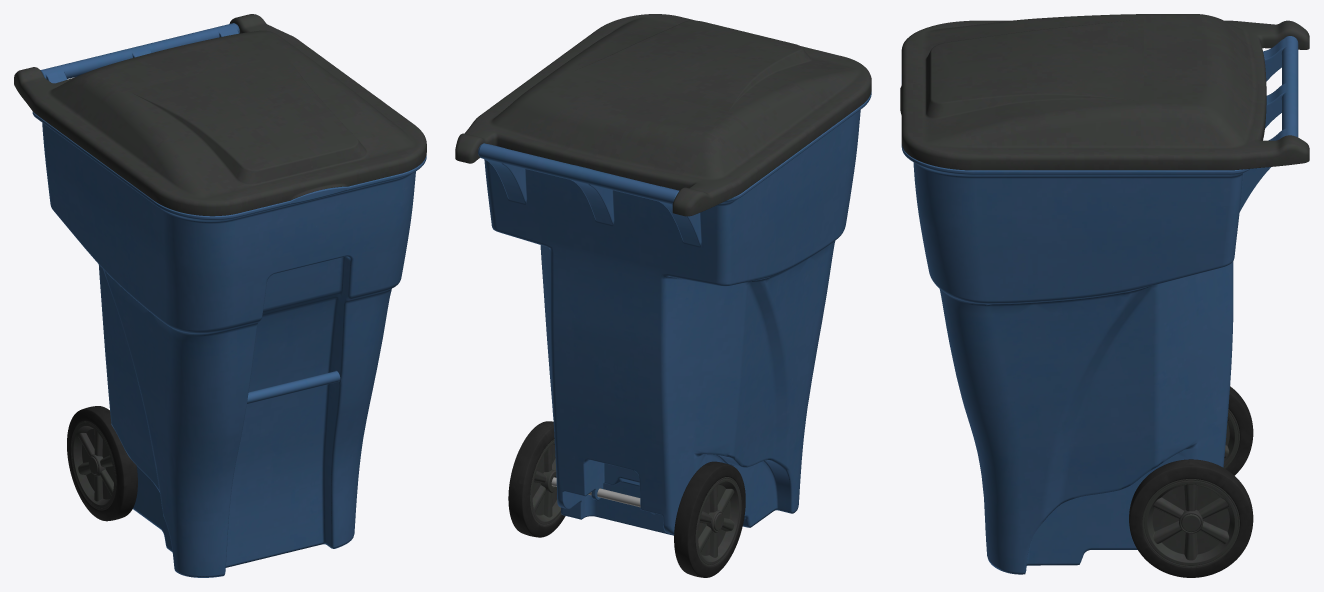
Rendered from container_recycle_blue_wheeled_a02.glb.
The picture shows the model from 3 angles, left to right: view 1: azimuth 30°, elevation 25°; view 2: azimuth 150°, elevation 25°; view 3: azimuth 270°, elevation 25°; orthographic projection. The views are drawn at different scales.
Parts seen in each view (by area): view 1: sm_body_a02_mesh_00, sm_lid_a02_mesh_00, sm_wheel2_a02_mesh_00; view 2: sm_body_a02_mesh_00, sm_lid_a02_mesh_00, sm_wheel2_a02_mesh_00, sm_wheel1_a02_mesh_00; view 3: sm_body_a02_mesh_00, sm_lid_a02_mesh_00, sm_wheel1_a02_mesh_00, sm_wheel2_a02_mesh_00.
Part boxes in pixels (<box>): sm_body_a02_mesh_00: <box>32,23,426,577</box>; sm_lid_a02_mesh_00: <box>14,14,426,216</box>; sm_wheel2_a02_mesh_00: <box>67,406,137,521</box>; sm_body_a02_mesh_00: <box>478,92,871,535</box>; sm_lid_a02_mesh_00: <box>455,14,871,216</box>; sm_wheel2_a02_mesh_00: <box>674,461,745,577</box>; sm_wheel1_a02_mesh_00: <box>508,421,565,537</box>; sm_body_a02_mesh_00: <box>901,36,1298,574</box>; sm_lid_a02_mesh_00: <box>900,14,1309,170</box>; sm_wheel1_a02_mesh_00: <box>1129,459,1253,577</box>; sm_wheel2_a02_mesh_00: <box>1223,386,1253,475</box>.
Size of the model in its own units: 0.6875 by 1.1 by 0.865.
4 materials, 4 textured.
